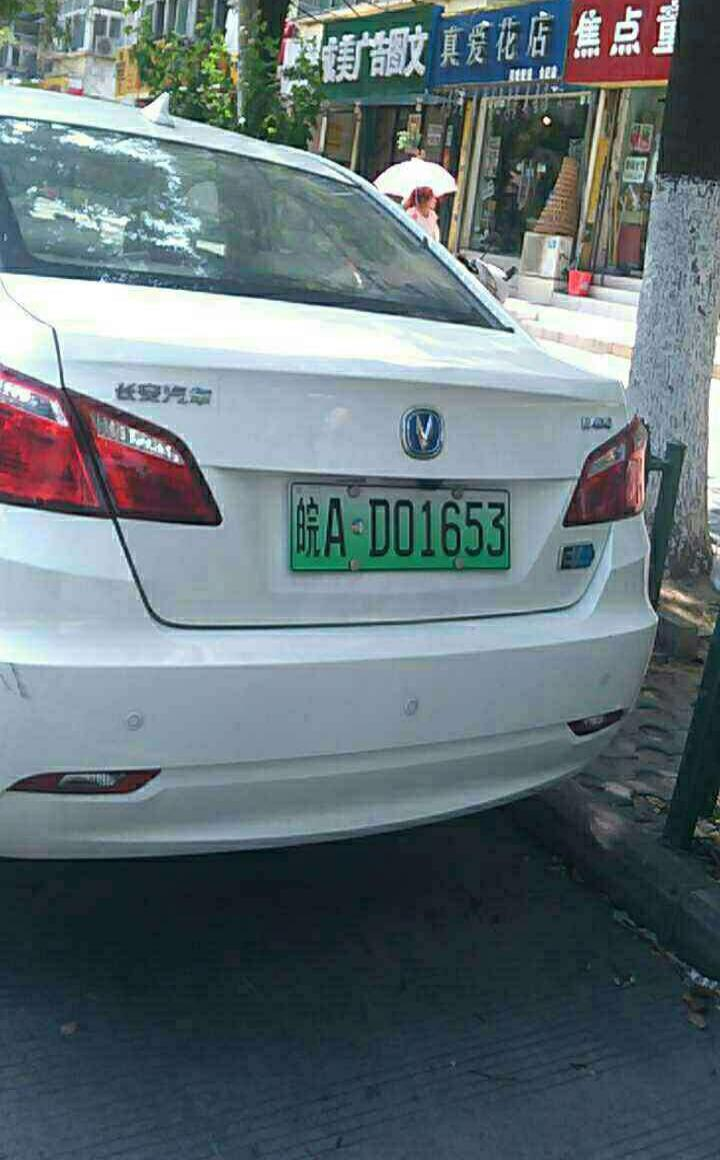car_id: (286, 485, 512, 569)
